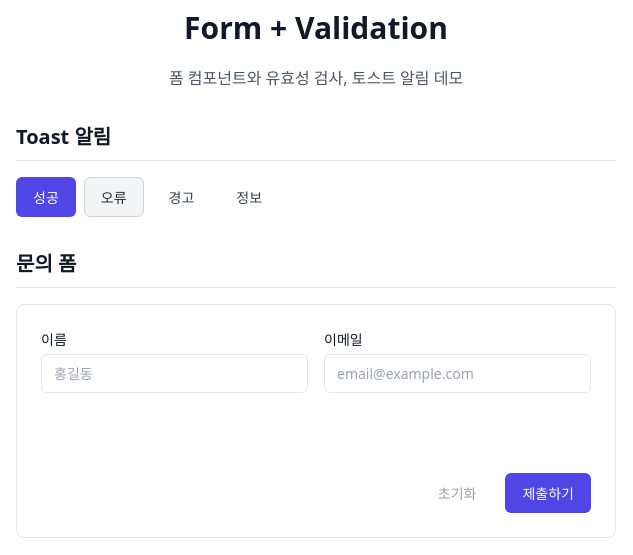
FormDemo › 초기화 버튼이 dirty 상태에서만 활성화된다
Check: the button "초기화" is disabled, box [421, 473, 493, 513]
Type "테스트" into the field labelled "이름" at (174, 374), box [41, 354, 308, 393]
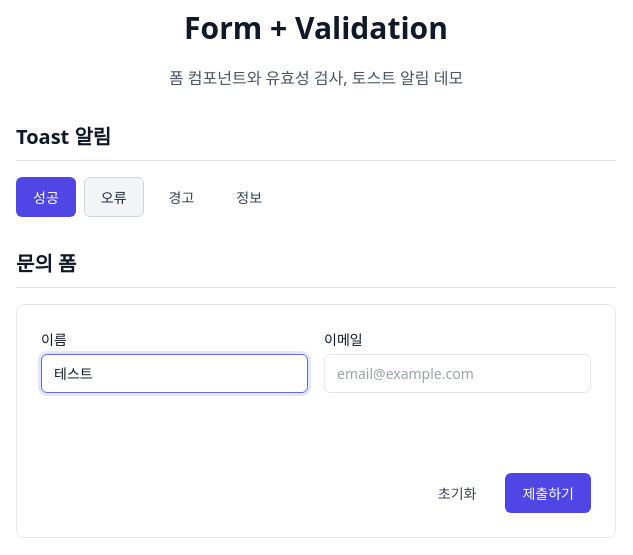
Check: the button "초기화" is enabled, box [421, 473, 493, 513]
